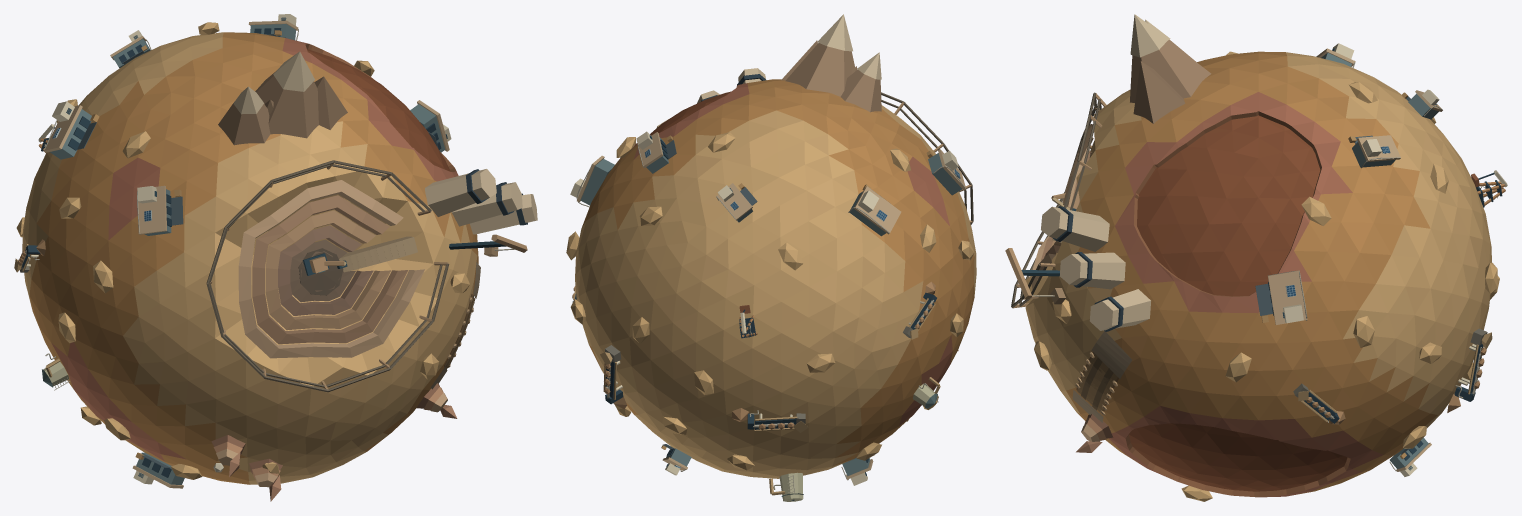
File: earth.glb
The picture shows the model from 3 angles, left to right: view 1: azimuth 30°, elevation 25°; view 2: azimuth 150°, elevation 25°; view 3: azimuth 270°, elevation 25°; orthographic projection. The views are drawn at different scales.
Parts seen in each view (by area): view 1: Terrain • modeled surfaces, Structures • modeled surfaces, Activity_haul-truck_road • modeled surfaces; view 2: Terrain • modeled surfaces, Structures • modeled surfaces; view 3: Terrain • modeled surfaces, Structures • modeled surfaces, Activity_haul-truck_road • modeled surfaces.
Boxes of the visible parts, x1=… form: Terrain • modeled surfaces: x1=22, y1=32, x2=478, y2=484; Structures • modeled surfaces: x1=14, y1=14, x2=537, y2=501; Activity_haul-truck_road • modeled surfaces: x1=430, y1=262, x2=480, y2=389; Terrain • modeled surfaces: x1=575, y1=79, x2=976, y2=478; Structures • modeled surfaces: x1=566, y1=14, x2=974, y2=501; Terrain • modeled surfaces: x1=1025, y1=51, x2=1491, y2=497; Structures • modeled surfaces: x1=1005, y1=14, x2=1507, y2=501; Activity_haul-truck_road • modeled surfaces: x1=1072, y1=331, x2=1131, y2=422.
Bounding box in the file's own units: 2.2 × 2.33 × 2.3.
